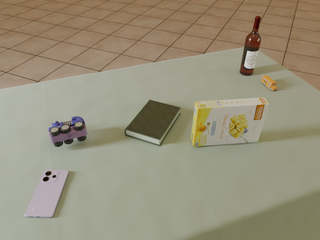book: (125, 100, 180, 146)
bottle: (240, 16, 261, 75)
box: (191, 98, 269, 146)
phone: (25, 170, 68, 217)
toy_car: (49, 117, 87, 147), (262, 75, 278, 91)
